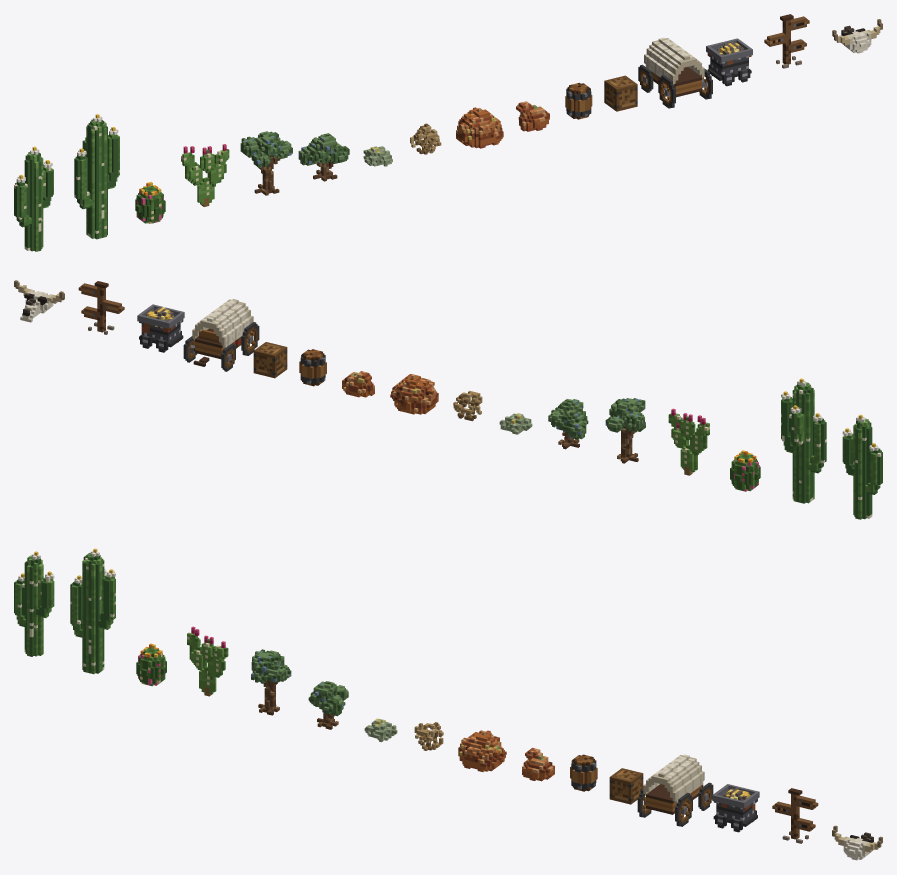
File: TAM_PropsV2.fbx
3 views of the same model, one above another, from view 1: azimuth 30°, elevation 25°; view 2: azimuth 150°, elevation 25°; view 3: azimuth 330°, elevation 25° (orthographic).
Parts seen in each view (by area): view 1: SaguaroTall, Wagon, Saguaro, PricklyPear, Juniper, MineCart, BoulderA, JuniperSmall, Signpost, Crate, BarrelCactus, CowSkull (+4 smaller); view 2: SaguaroTall, Wagon, Saguaro, MineCart, PricklyPear, Juniper, BoulderA, JuniperSmall, Signpost, Crate, BarrelCactus, CowSkull (+4 smaller); view 3: SaguaroTall, Wagon, Saguaro, MineCart, PricklyPear, Juniper, BoulderA, JuniperSmall, Signpost, Crate, BarrelCactus, CowSkull (+3 smaller).
Boxes of the visible parts, x1,y1,x2,y2 form: SaguaroTall: (74,114,119,239); Wagon: (638,37,712,108); Saguaro: (14,146,53,251); PricklyPear: (181,144,229,206); Juniper: (240,131,292,195); MineCart: (706,38,752,86); BoulderA: (456,107,503,148); JuniperSmall: (298,133,349,181); Signpost: (764,14,809,68); Crate: (604,75,637,111); BarrelCactus: (135,182,165,223); CowSkull: (832,19,882,53); SaguaroTall: (781,378,826,503); Wagon: (183,299,259,371); Saguaro: (842,414,882,519); MineCart: (137,304,184,352); PricklyPear: (668,408,709,475); Juniper: (605,398,645,463); BoulderA: (390,374,438,414); JuniperSmall: (548,399,588,449); Signpost: (78,281,124,334); Crate: (253,342,287,378); BarrelCactus: (730,450,760,491); CowSkull: (14,280,64,322); SaguaroTall: (70,548,115,674); Wagon: (637,754,713,826); Saguaro: (14,551,54,656); MineCart: (712,784,759,832); PricklyPear: (187,626,228,696); Juniper: (251,649,291,715); BoulderA: (458,730,506,771); JuniperSmall: (308,681,348,729); Signpost: (772,788,818,843); Crate: (609,768,643,804); BarrelCactus: (136,643,166,686); CowSkull: (832,825,882,860).
Bounding box in the file's own units: 163 × 21.5 × 13.5.
